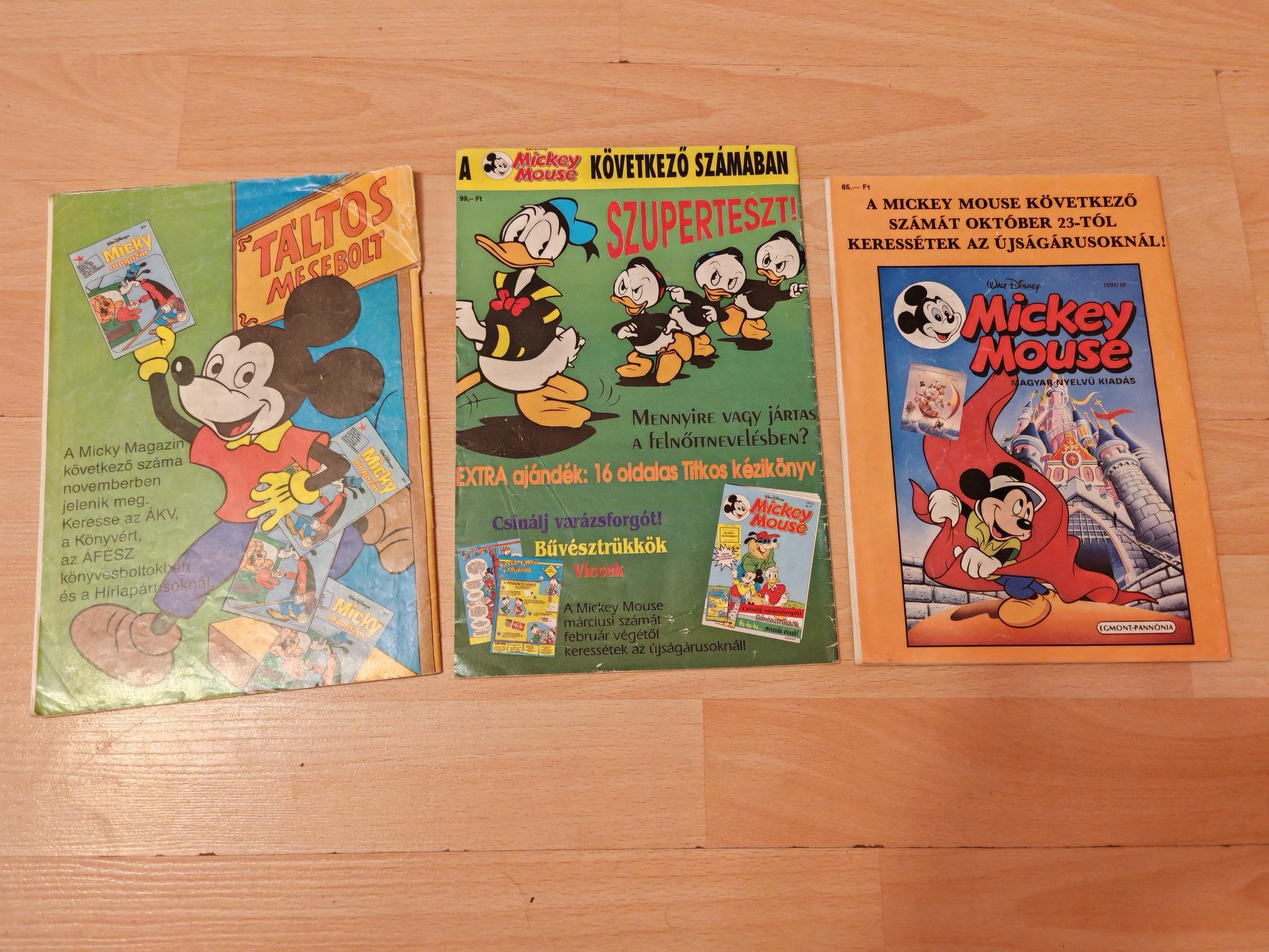comic: (6, 166, 442, 714), (827, 156, 1228, 679), (446, 143, 836, 675)
